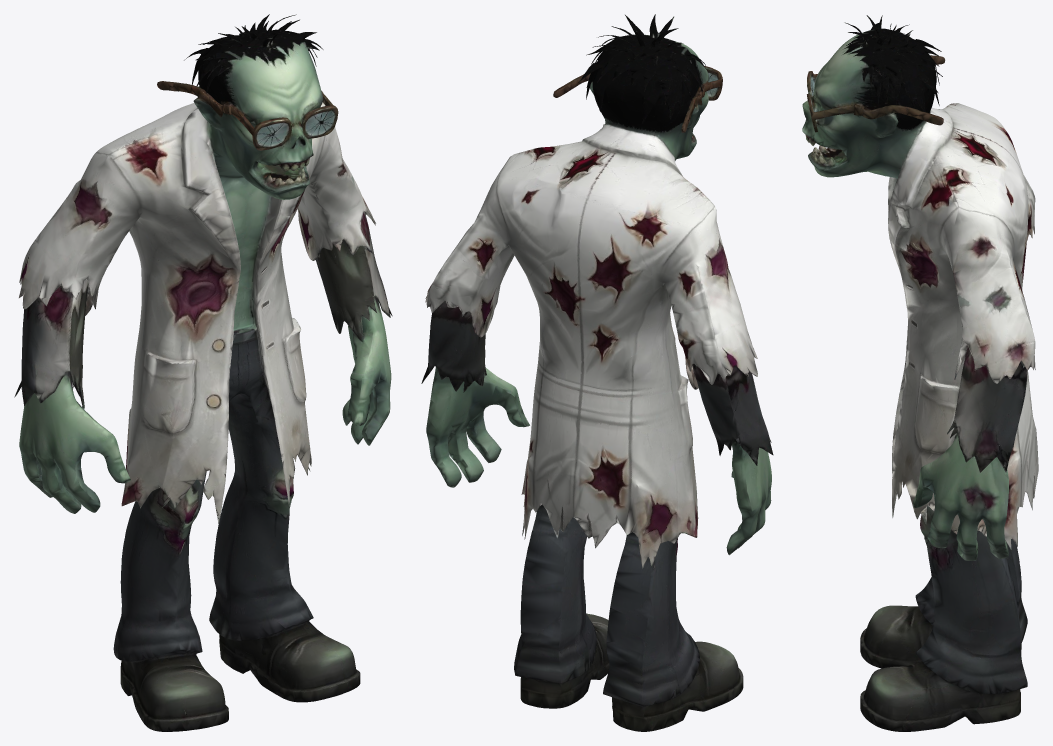
The model's file is Meshy_AI__0626205329_balanced.glb.
The picture shows the model from 3 angles, left to right: view 1: azimuth 30°, elevation 25°; view 2: azimuth 150°, elevation 25°; view 3: azimuth 270°, elevation 25°; orthographic projection. The views are drawn at different scales.
Size of the model in its own units: 1.06 by 1.9 by 0.6141.
Materials: 1 (1 with a texture image).
